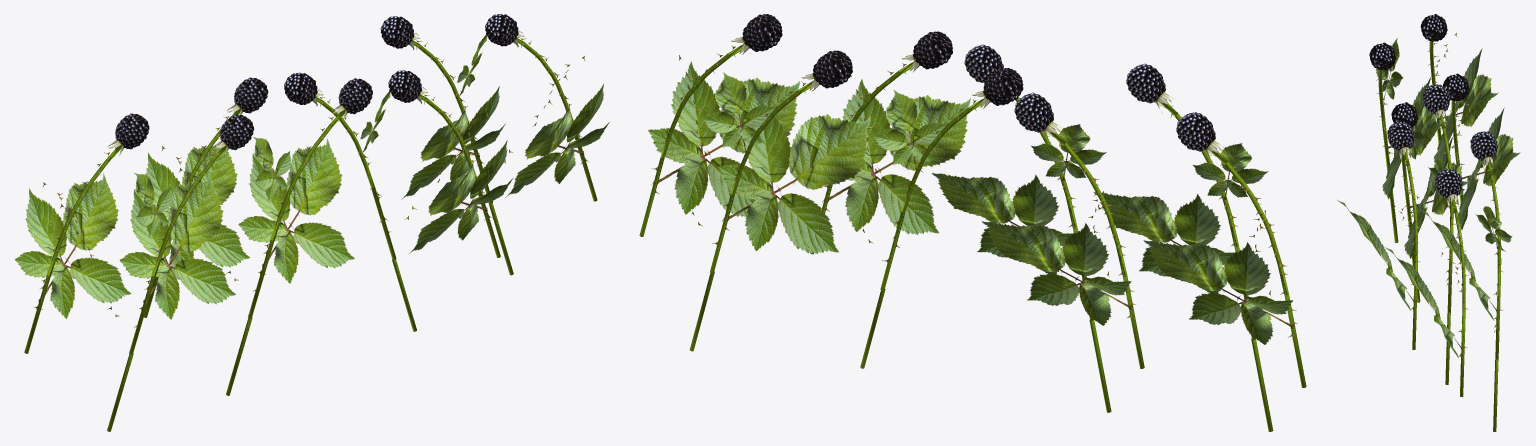
The model's file is blackberry.glb.
3 renders of one model, left to right at view 1: azimuth 30°, elevation 25°; view 2: azimuth 150°, elevation 25°; view 3: azimuth 270°, elevation 25°, orthographic. The views are drawn at different scales.
Parts seen in each view (by area): view 1: C-braamblad.003, C-braamblad.002, C-braamblad.001, C-braamblad.004, C-braamblad.005, C-braamblad.007, C-braamblad.006, C-braamblad#1.001, C-braamblad#1.002, _G-Object.013 (Loose Mesh).002, _G-Object.013 (Loose Mesh).003, _G-Object.013 (Loose Mesh) (+4 smaller); view 2: C-braamblad.006, C-braamblad.005, C-braamblad.007, C-braamblad.004, C-braamblad.003, C-braamblad.001, C-braamblad.002, C-braamblad#1.004, C-braamblad#1.003, C-braamblad#1.002, C-braamblad#1.001, _G-Object.013 (Loose Mesh).001 (+4 smaller); view 3: C-braamblad.003, C-braamblad.004, C-braamblad.001, C-braamblad.002, C-braamblad.007, C-braamblad.005, C-braamblad.006, _G-Object.013 (Loose Mesh).007, _G-Object.013 (Loose Mesh).005, _G-Object.013 (Loose Mesh).006, C-braamblad#1.004, _G-Object.013 (Loose Mesh).004 (+10 smaller).
Part boxes in pixels (x1,y1,x2,y2): C-braamblad.003: (15,173,131,318); C-braamblad.002: (119,173,236,319); C-braamblad.001: (238,137,354,283); C-braamblad.004: (144,144,250,271); C-braamblad.005: (409,140,513,253); C-braamblad.007: (505,84,609,197); C-braamblad.006: (401,86,505,199); C-braamblad#1.001: (252,136,291,200); C-braamblad#1.002: (133,172,172,236); _G-Object.013 (Loose Mesh).002: (129,145,226,354); _G-Object.013 (Loose Mesh).003: (24,145,121,353); _G-Object.013 (Loose Mesh): (248,110,345,318); C-braamblad.006: (718,97,870,253); C-braamblad.005: (828,78,970,234); C-braamblad.007: (648,61,800,217); C-braamblad.004: (982,221,1132,325); C-braamblad.003: (1143,240,1294,344); C-braamblad.001: (932,173,1076,274); C-braamblad.002: (1093,192,1238,293); C-braamblad#1.004: (701,72,775,152); C-braamblad#1.003: (871,89,945,169); C-braamblad#1.002: (1193,143,1268,199); C-braamblad#1.001: (1031,124,1106,180); _G-Object.013 (Loose Mesh).001: (1049,132,1144,368); C-braamblad.003: (1433,48,1498,162); C-braamblad.004: (1458,108,1520,230); C-braamblad.001: (1404,136,1468,258); C-braamblad.002: (1382,77,1447,199); C-braamblad.007: (1384,246,1462,357); C-braamblad.005: (1336,199,1413,310); C-braamblad.006: (1419,209,1497,320); _G-Object.013 (Loose Mesh).007: (1452,197,1465,396); _G-Object.013 (Loose Mesh).005: (1404,150,1417,349); _G-Object.013 (Loose Mesh).006: (1487,160,1501,359); C-braamblad#1.004: (1475,206,1512,251); _G-Object.013 (Loose Mesh).004: (1440,113,1453,312).
Size of the model in its own units: 0.3985 by 0.1945 by 0.1285.
7 materials, 6 textured.
